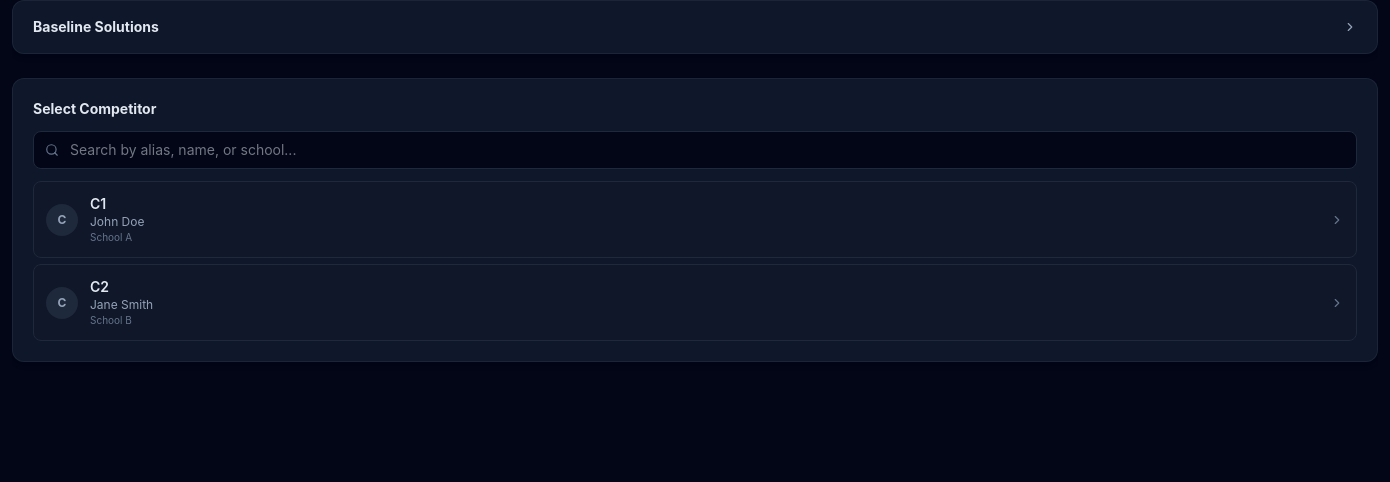
Scenario: SubmissionsView Page › Admin/Jury view › renders stage groups correctly when tasks have no stage_id
The width and height of the screenshot is (1390, 482).
Expected: the text "C1" is shown, [90,195,106,212]
Click the button "C C1 John Doe School A": [62, 220] box [33,181,1357,258]
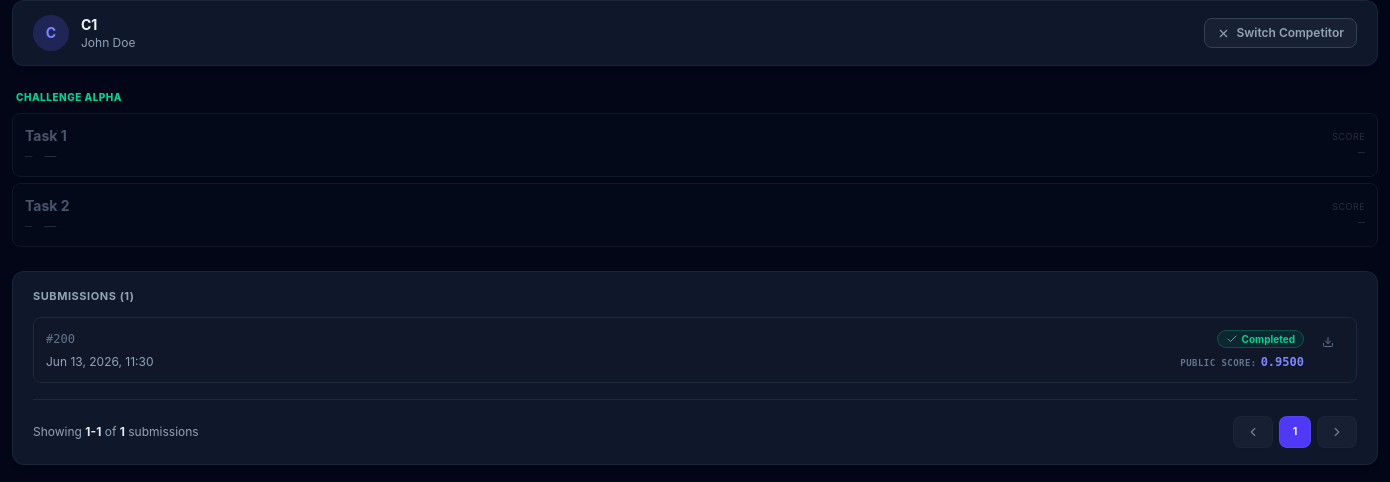
Expected: the text "Challenge Alpha" is shown, [16,90,122,105]
Expected: the text "Task 1" is shown, [25,126,67,146]
